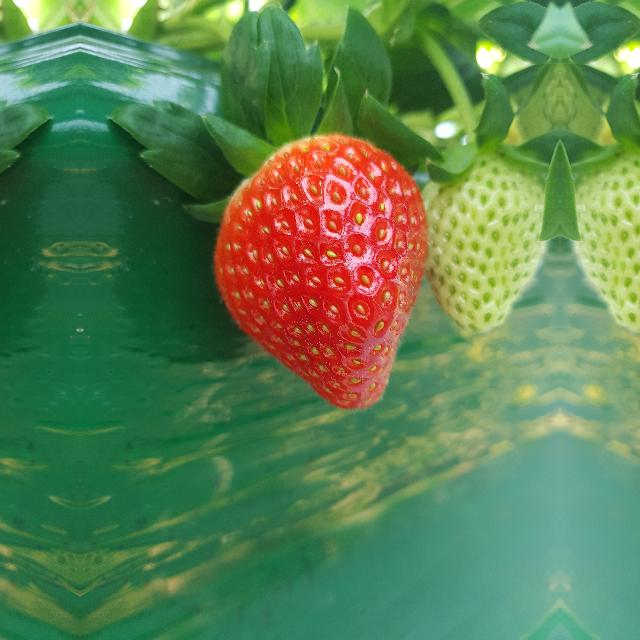Health_100: (214, 132, 428, 410)
Health_25: (410, 147, 548, 341), (572, 147, 640, 341)
